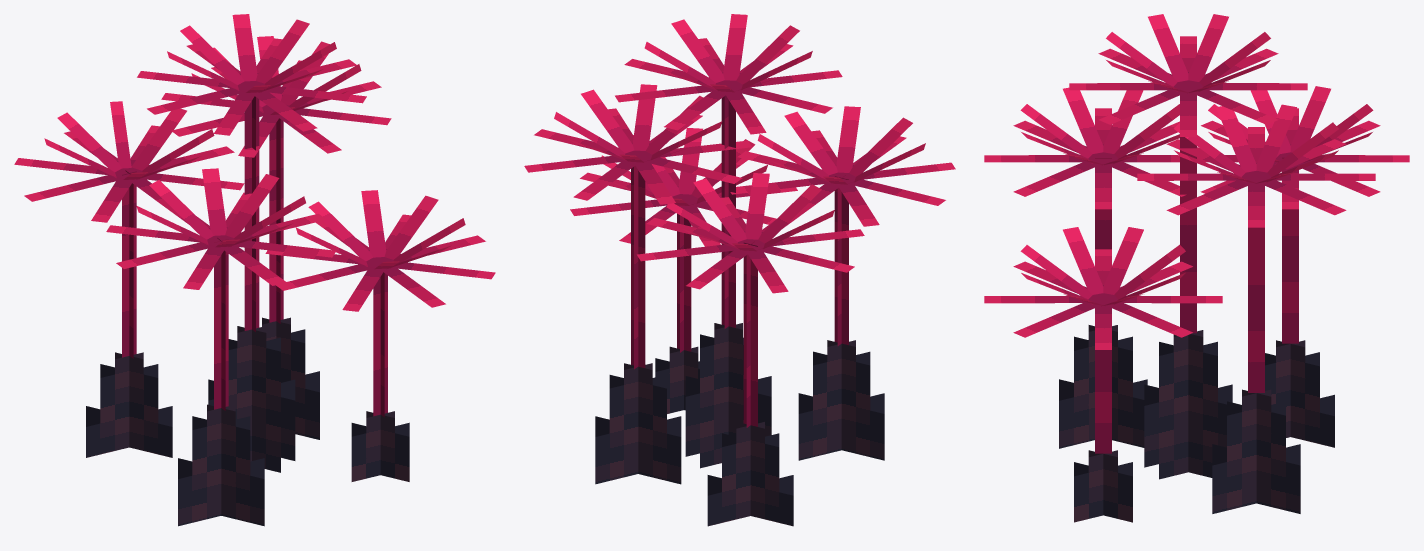
Rendered from subcaverna_cave_cyperus.obj.
3 renders of one model, left to right at view 1: azimuth 30°, elevation 25°; view 2: azimuth 150°, elevation 25°; view 3: azimuth 270°, elevation 25°, orthographic. The views are drawn at different scales.
Visible parts, largest first — view 1: CaveCyperus; view 2: CaveCyperus; view 3: CaveCyperus.
Boxes of the visible parts, x1,y1,x2,y2 form: CaveCyperus: [14, 14, 495, 526]; CaveCyperus: [524, 14, 955, 526]; CaveCyperus: [984, 14, 1409, 522].
Bounding box in the file's own units: 1.56 × 1.72 × 1.56.
